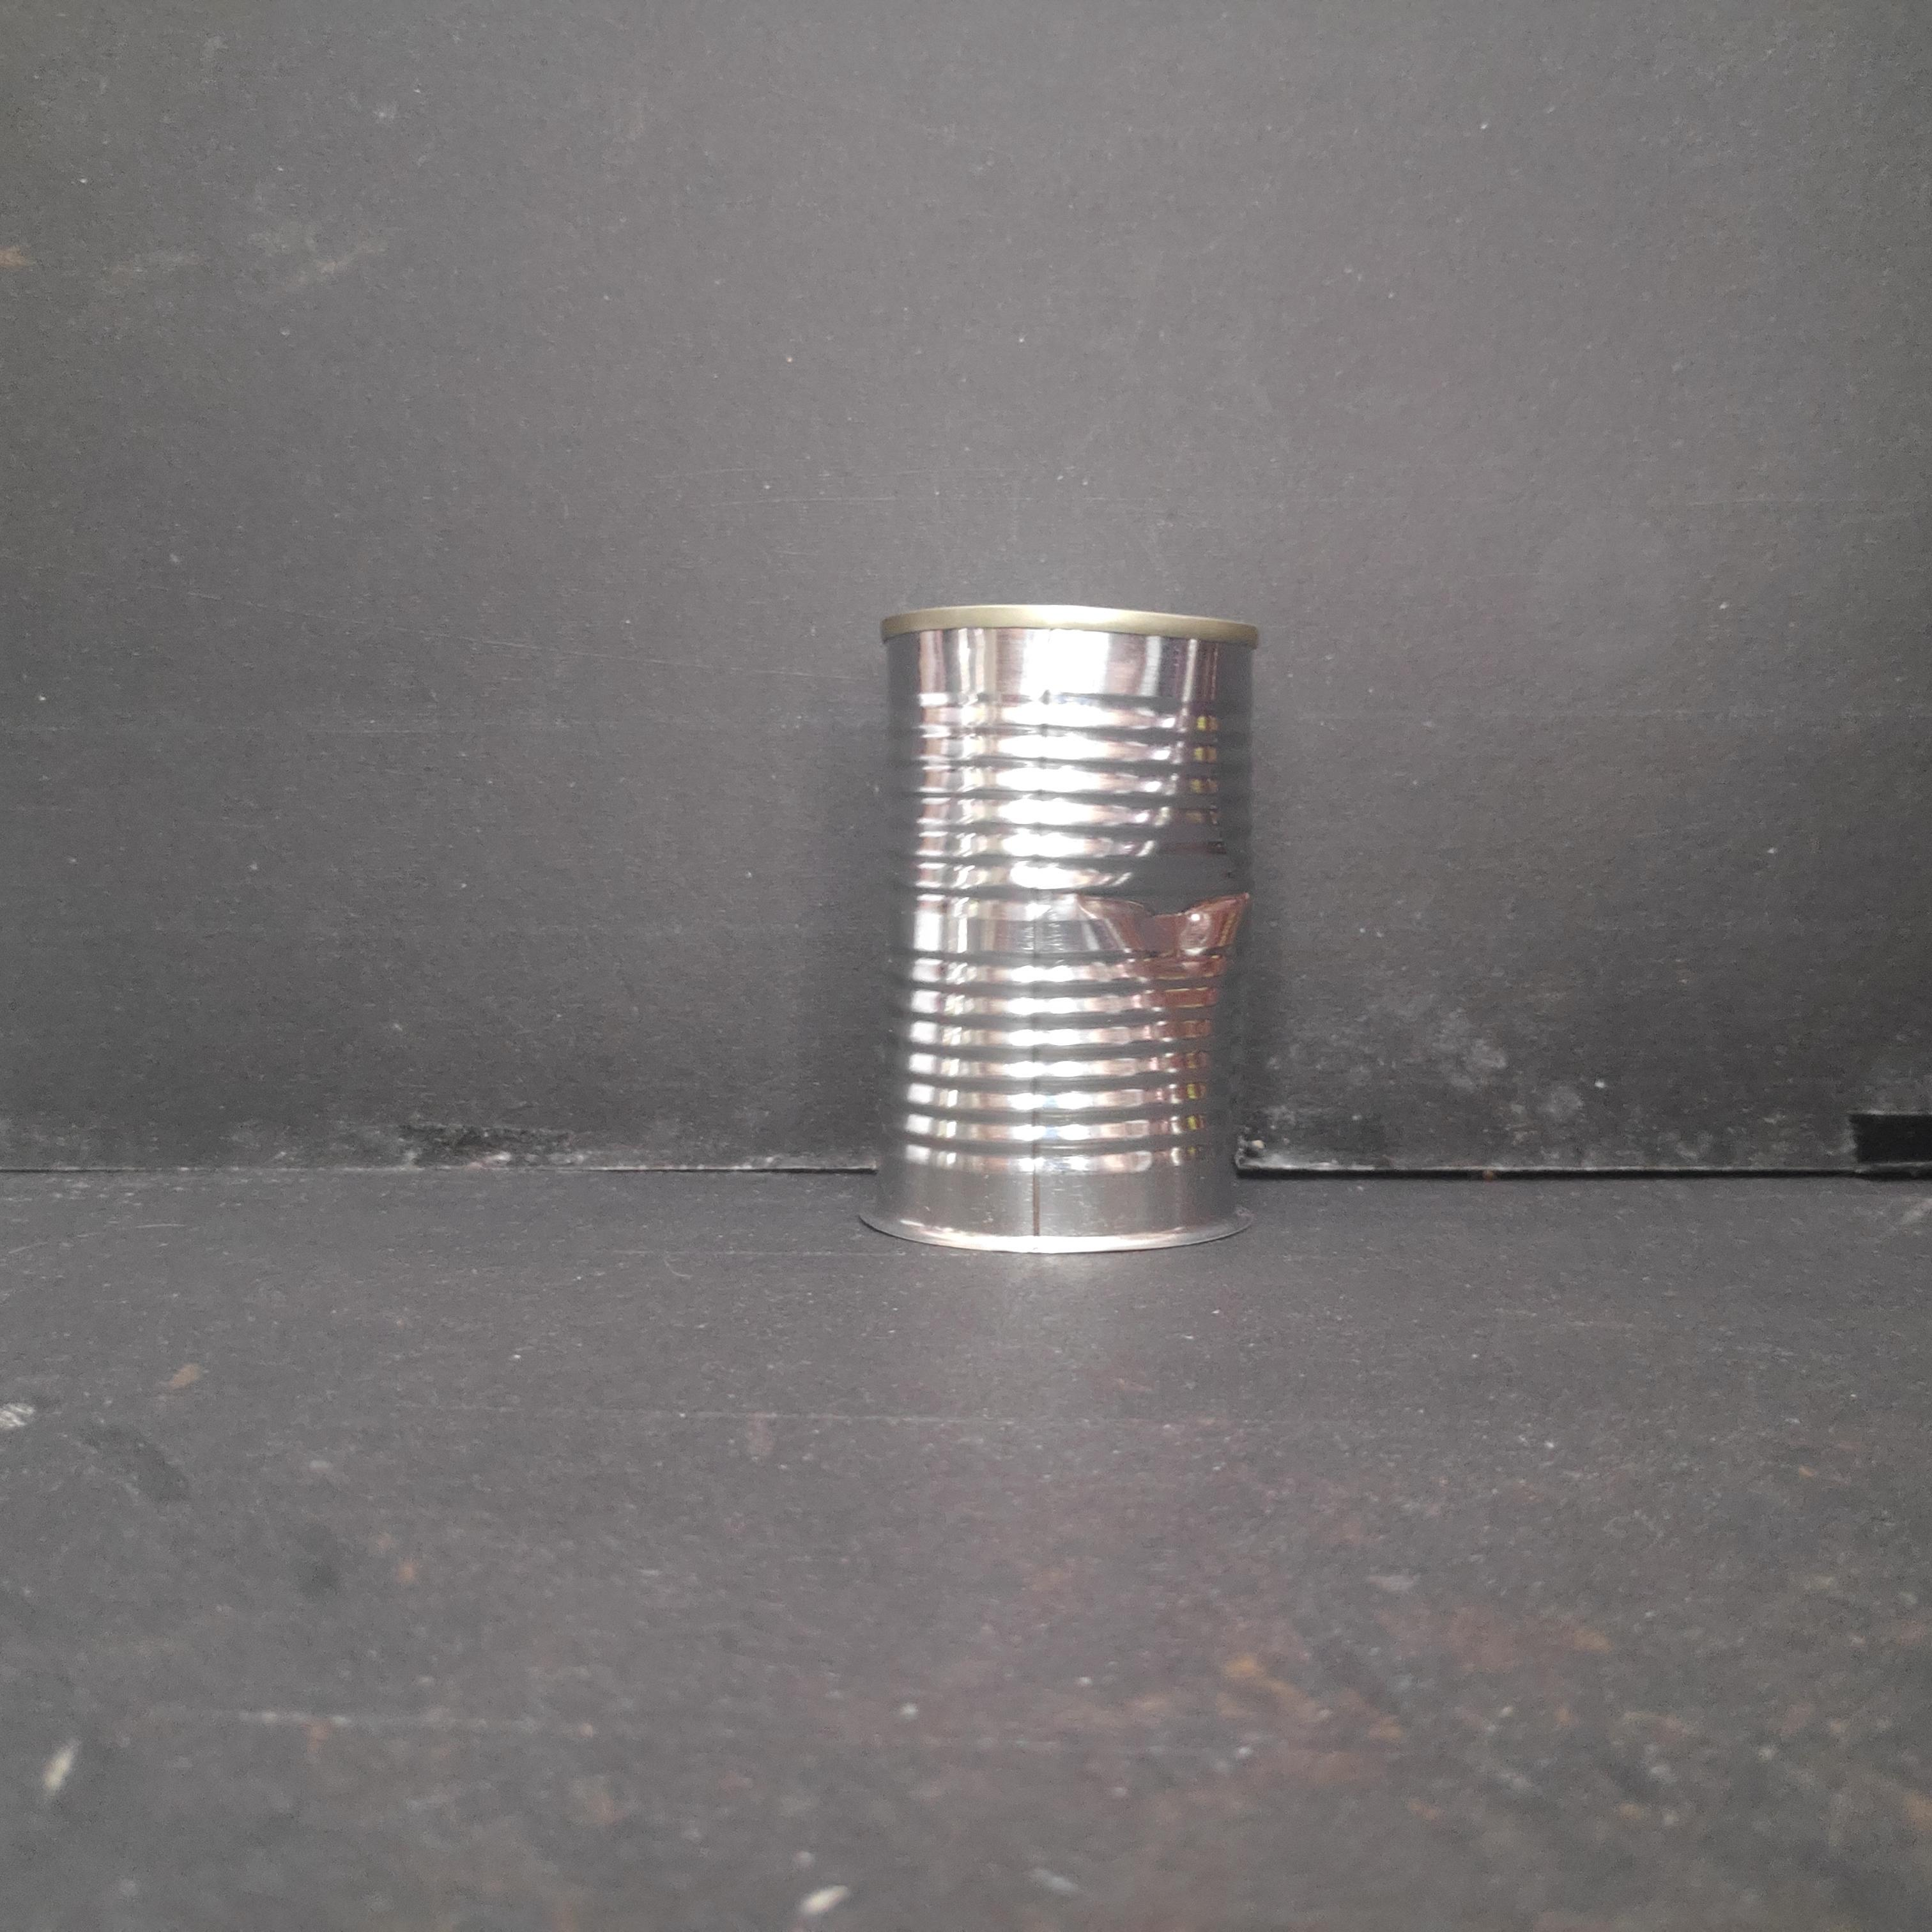Minor Defect: (867, 594, 1261, 1260)
